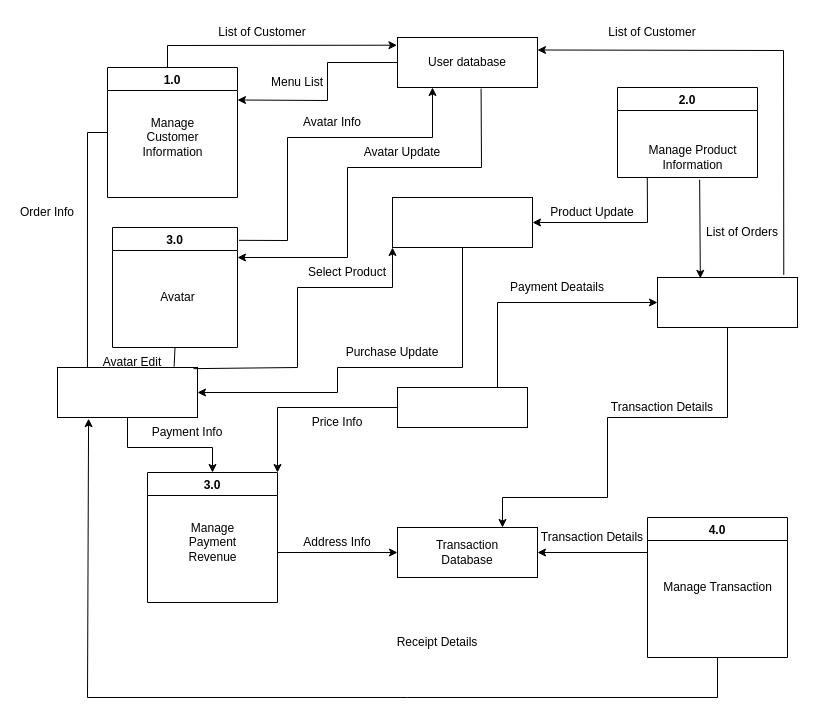
This 815x723 diagram has some shape labels left out. The shapes that lost their labels are listed below. From the top down, each one's box as (x1, y1, x2, y2) in pixels, then its label:
(392, 196, 532, 248): Product databse
(656, 276, 798, 328): Website Admin
(56, 366, 198, 418): Customer
(396, 386, 528, 428): Sales Database
